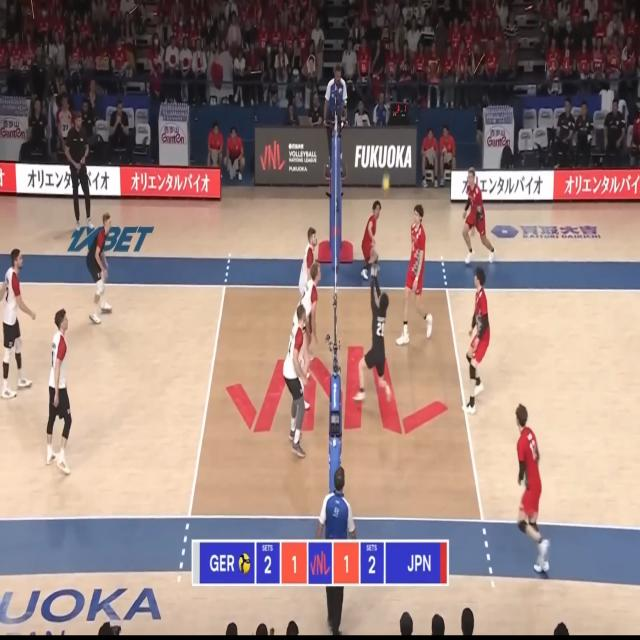ball: (382, 174, 390, 191)
